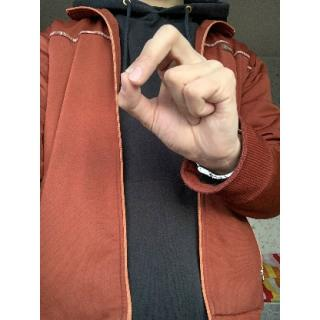QAAF: (108, 17, 238, 173)
